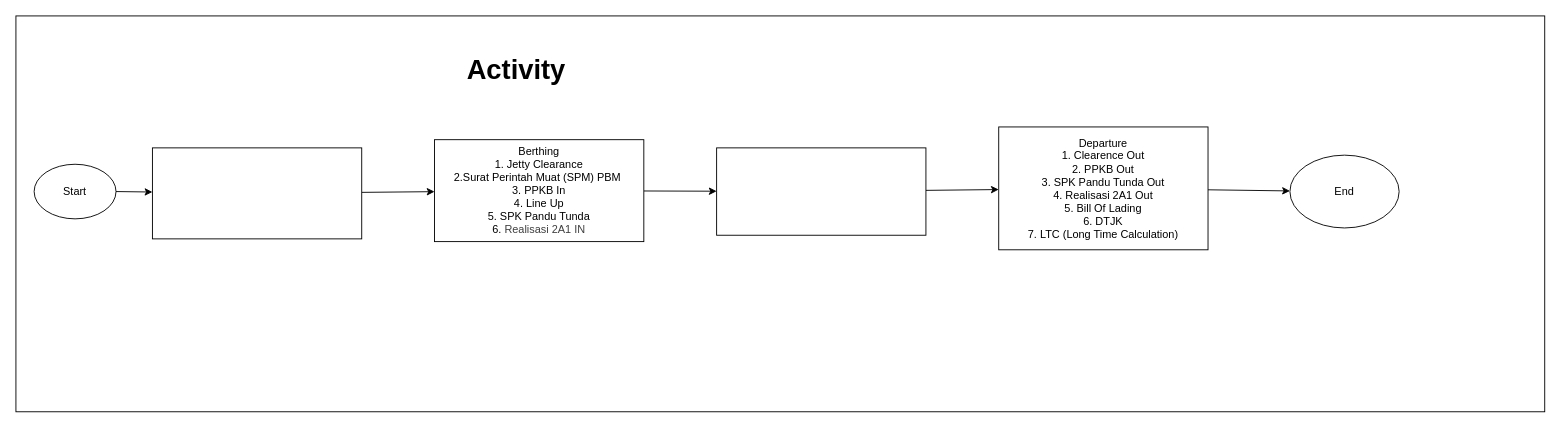
This 1561x428 diagram has some shape labels left out. The box of each missing label's shape, as (x1, y1, x2, y2) in pixels:
Arrival 1. Create Laycan 2. Approve Laycan 3. SPM Ekpeditur 4. NOR 5. PPKB: (152, 147, 362, 239)
Jettty Operation 1. Gate In 2. Draught Survey/Tally 3. BA SPM/SPB: (716, 147, 926, 235)
